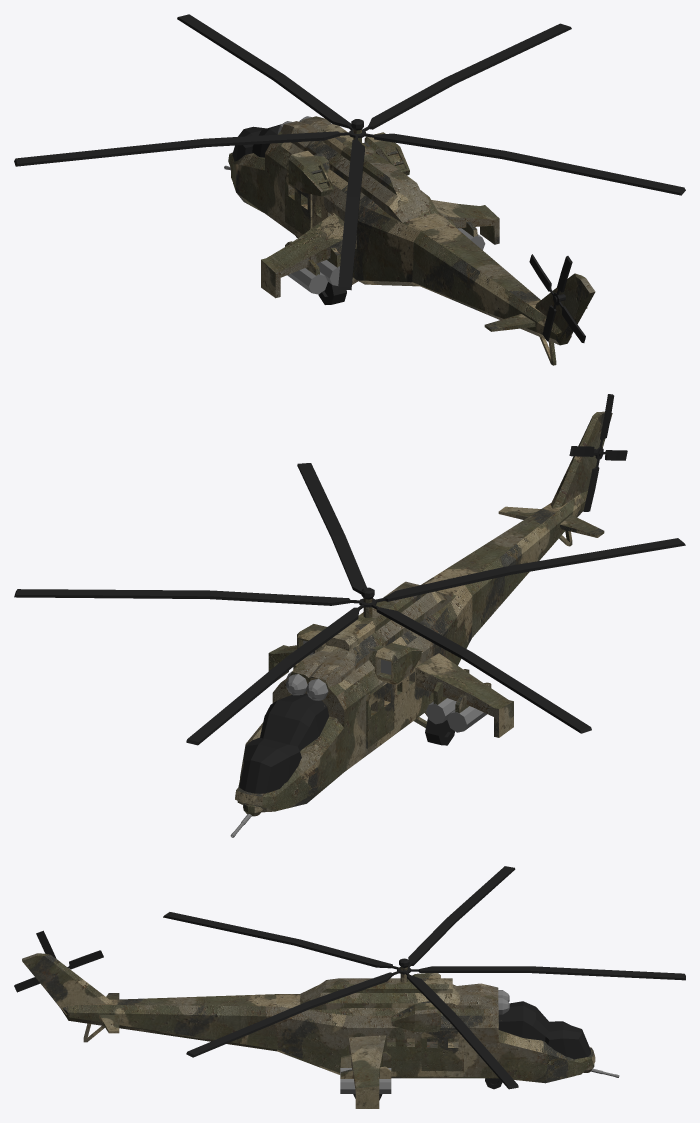
The model's file is Chopper.glb.
The picture shows the model from 3 angles, top to bottom: view 1: azimuth 30°, elevation 25°; view 2: azimuth 150°, elevation 25°; view 3: azimuth 270°, elevation 25°; orthographic projection. The views are drawn at different scales.
Parts seen in each view (by area): view 1: model_0, model_0.001, model_0.002; view 2: model_0, model_0.001, model_0.002; view 3: model_0, model_0.001, model_0.002.
Boxes of the visible parts, x1,y1,x2,y2 form: model_0: [224, 116, 595, 365]; model_0.001: [14, 14, 685, 290]; model_0.002: [529, 254, 585, 342]; model_0: [230, 411, 612, 837]; model_0.001: [14, 463, 685, 745]; model_0.002: [569, 394, 627, 511]; model_0: [22, 953, 619, 1108]; model_0.001: [163, 866, 685, 1089]; model_0.002: [14, 930, 103, 992].
Size of the model in its own units: 19.52 by 6.24 by 25.
Materials: 3 (1 with a texture image).
